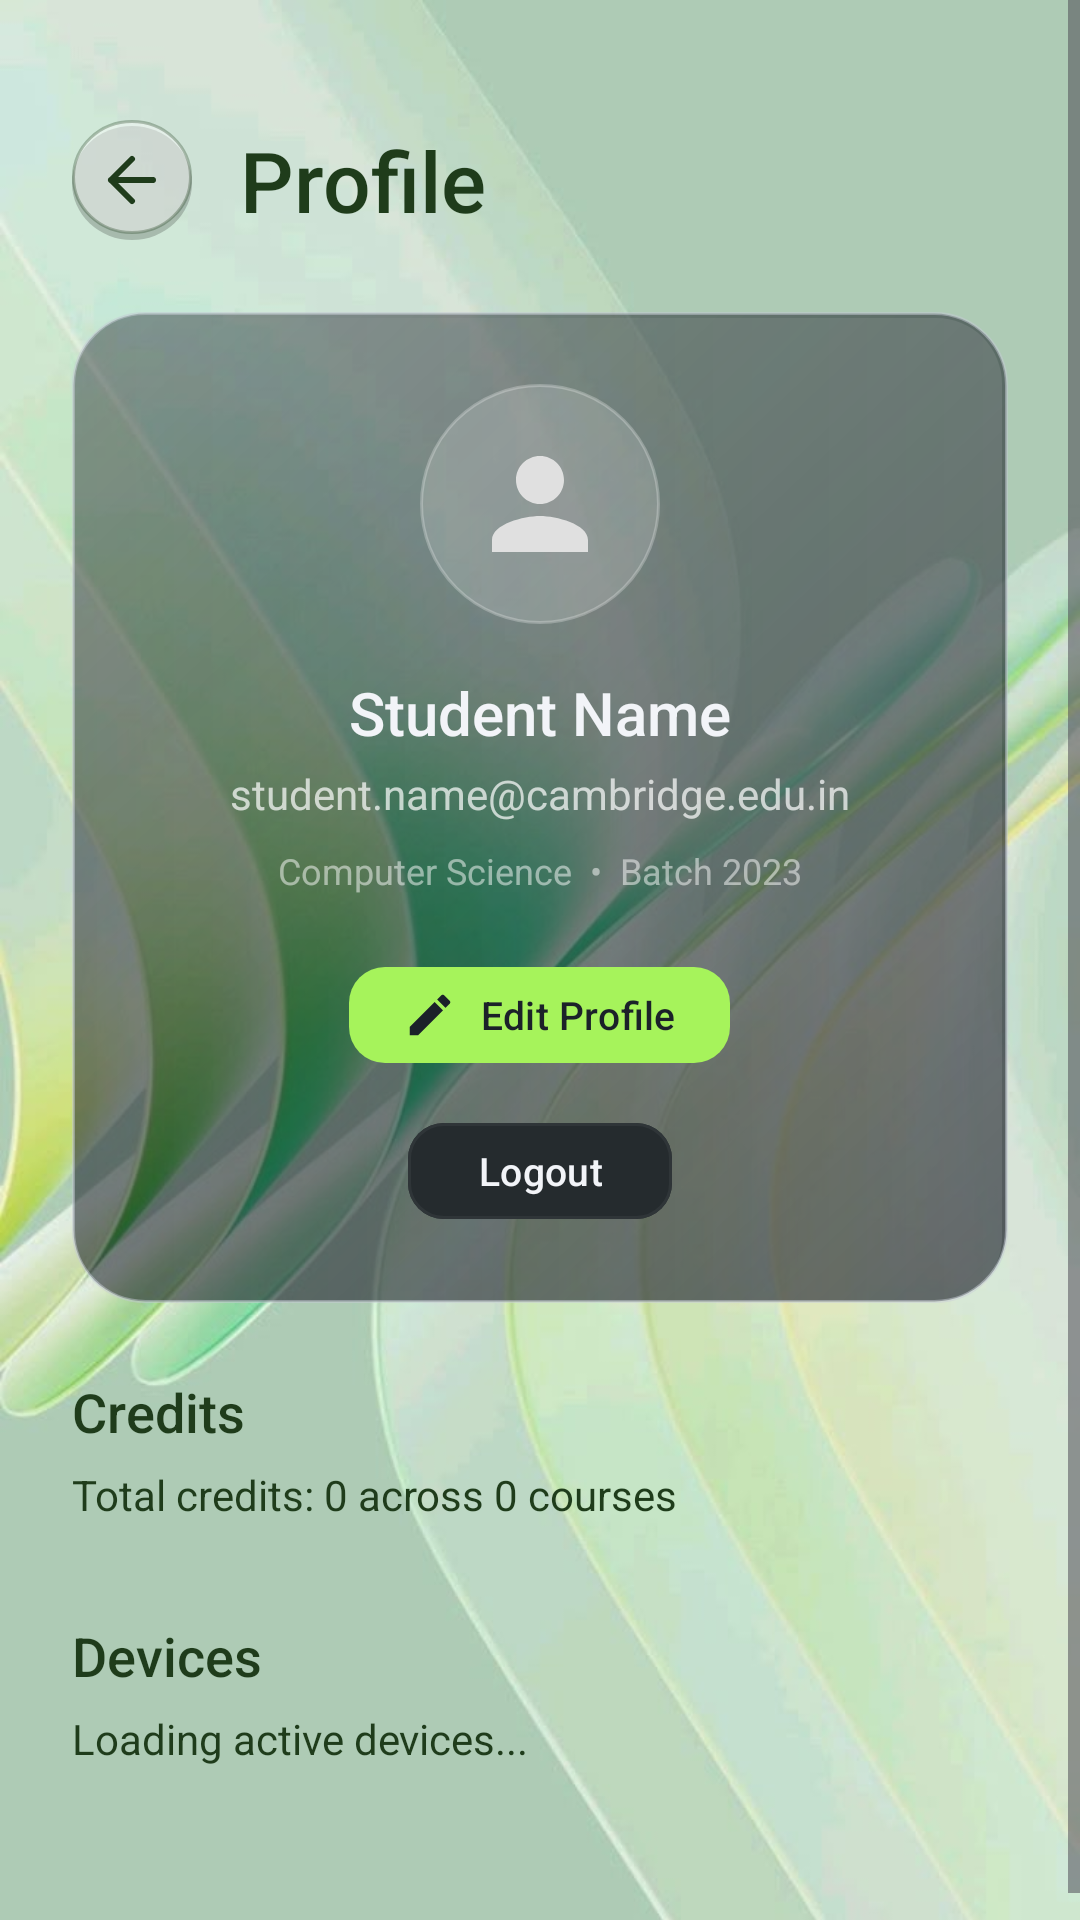

Icons on this 1080 x 1920 Android screen, each with its box as box=[x1, y1, x2, y2]:
Back: box=[72, 120, 192, 240]
